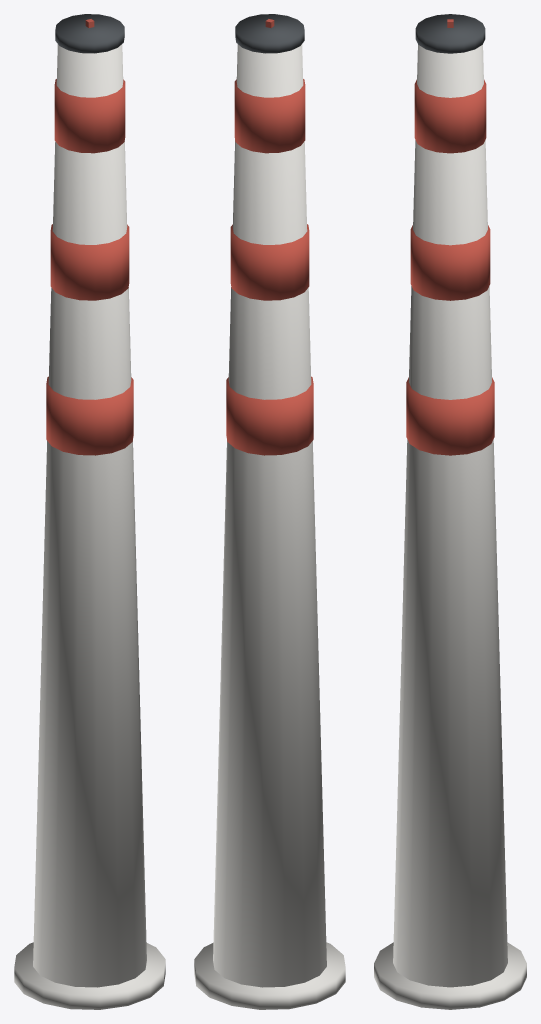
Rendered from chimney.glb.
3 renders of one model, left to right at view 1: azimuth 30°, elevation 25°; view 2: azimuth 150°, elevation 25°; view 3: azimuth 270°, elevation 25°, orthographic.
Visible parts, largest first — view 1: Merged_ConcreteLight, Merged_CityAccentRed, chimney_rim; view 2: Merged_ConcreteLight, Merged_CityAccentRed, chimney_rim; view 3: Merged_ConcreteLight, Merged_CityAccentRed, chimney_rim.
Part boxes in pixels (x1=…): Merged_ConcreteLight: x1=14, y1=44, x2=165, y2=1009; Merged_CityAccentRed: x1=46, y1=19, x2=133, y2=455; chimney_rim: x1=55, y1=14, x2=124, y2=53; Merged_ConcreteLight: x1=194, y1=44, x2=345, y2=1009; Merged_CityAccentRed: x1=226, y1=19, x2=313, y2=455; chimney_rim: x1=235, y1=14, x2=304, y2=53; Merged_ConcreteLight: x1=374, y1=44, x2=526, y2=1009; Merged_CityAccentRed: x1=406, y1=19, x2=494, y2=455; chimney_rim: x1=415, y1=14, x2=485, y2=53.
Size of the model in its own units: 19 by 131 by 19.
